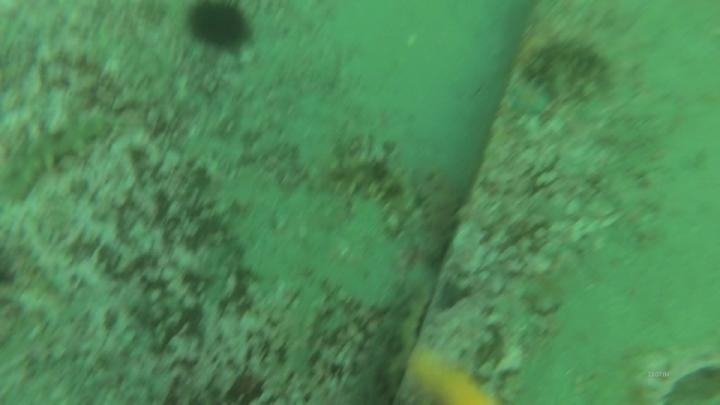echinus: (182, 1, 257, 57)
holothurian: (1, 108, 113, 201), (325, 147, 421, 236), (516, 35, 616, 99)
starfish: (504, 75, 554, 121)
